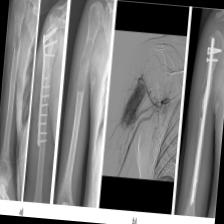pathological-fracture: (0, 0, 68, 203), (101, 26, 187, 178), (54, 0, 114, 208), (175, 7, 224, 220)
